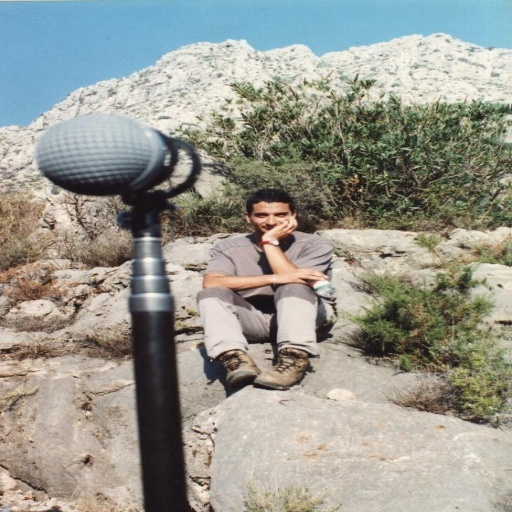hand: (262, 252, 326, 285), (260, 212, 298, 239)
